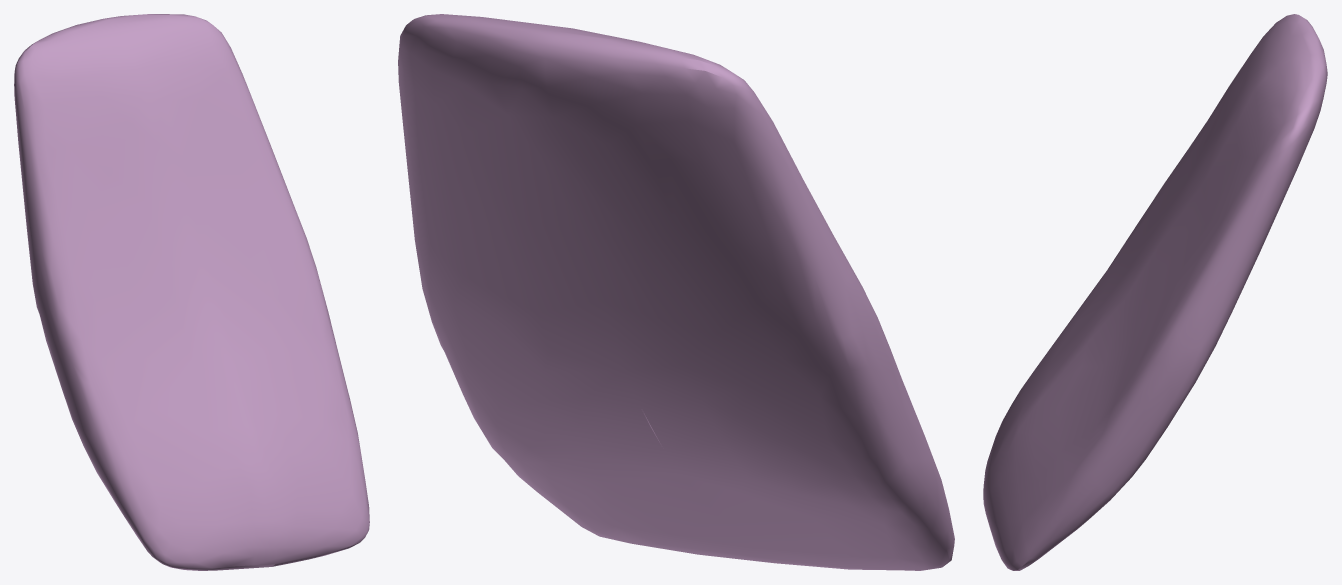
3 views of the same model, side by side, from view 1: azimuth 30°, elevation 25°; view 2: azimuth 150°, elevation 25°; view 3: azimuth 270°, elevation 25° (orthographic). The views are drawn at different scales.
Parts seen in each view (by area): view 1: 小脑小舌; view 2: 小脑小舌; view 3: 小脑小舌.
Part boxes in pixels (x1,y1,x2,y2): 小脑小舌: (14, 14, 369, 570); 小脑小舌: (398, 14, 954, 570); 小脑小舌: (983, 14, 1327, 570).
Bounding box in the file's own units: 0.015 × 0.0237 × 0.016.
